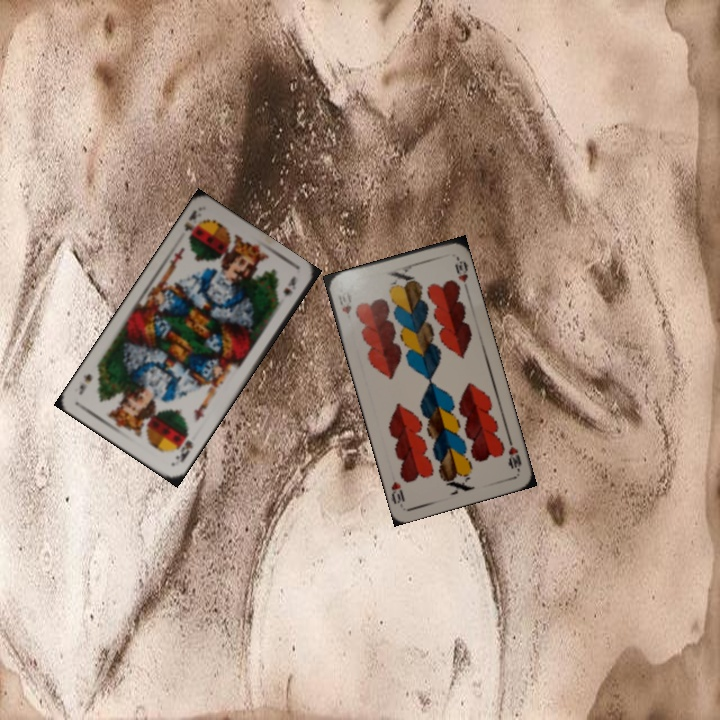H10: (504, 434, 524, 474), (334, 287, 354, 317)
SK: (180, 206, 204, 241), (171, 436, 195, 465)
